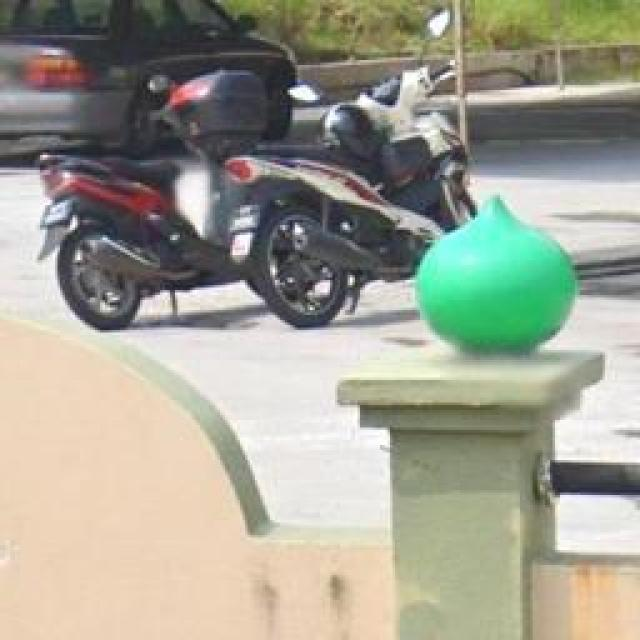car: (0, 0, 298, 178)
motorbike: (227, 33, 505, 340), (50, 90, 233, 352)
